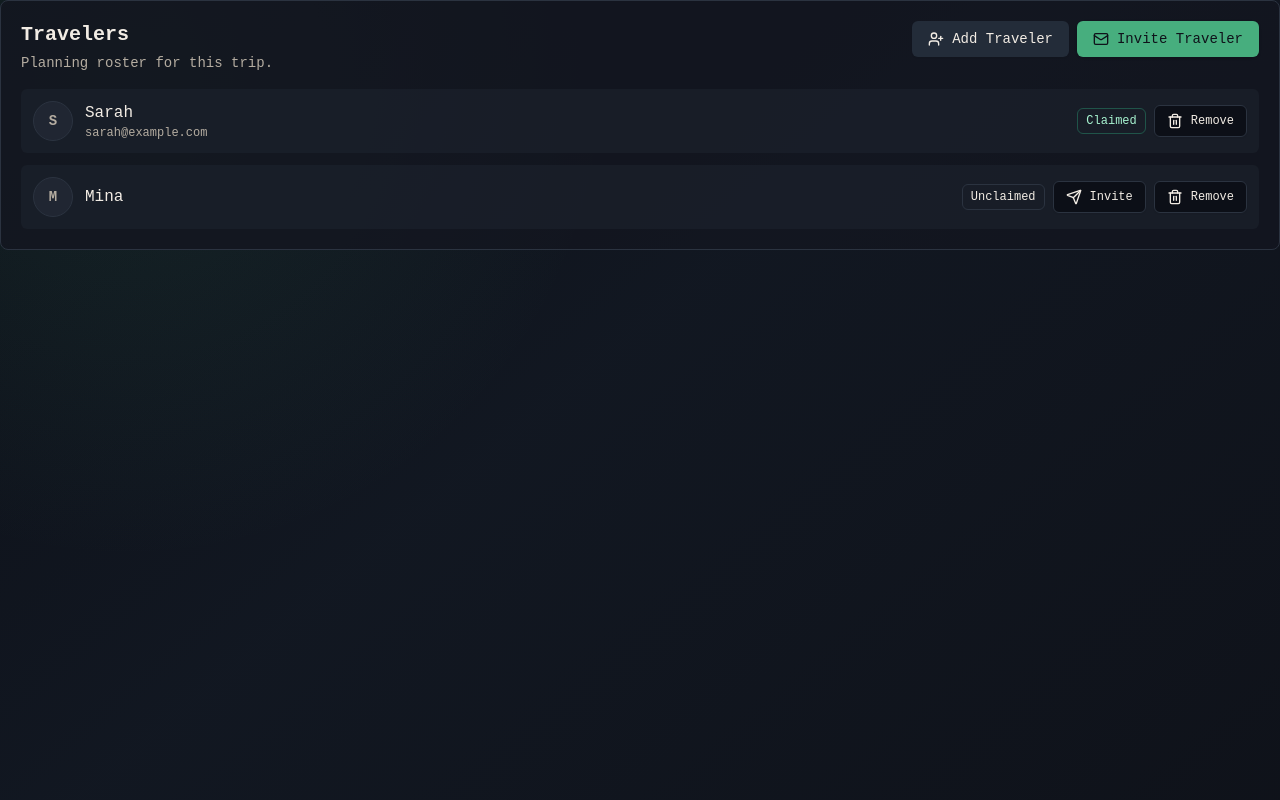
Test case: TripTravelersSection › invites an unclaimed traveler from their roster row
The width and height of the screenshot is (1280, 800).
Click the button "Invite" at (1099,197), box [1053, 181, 1146, 213]
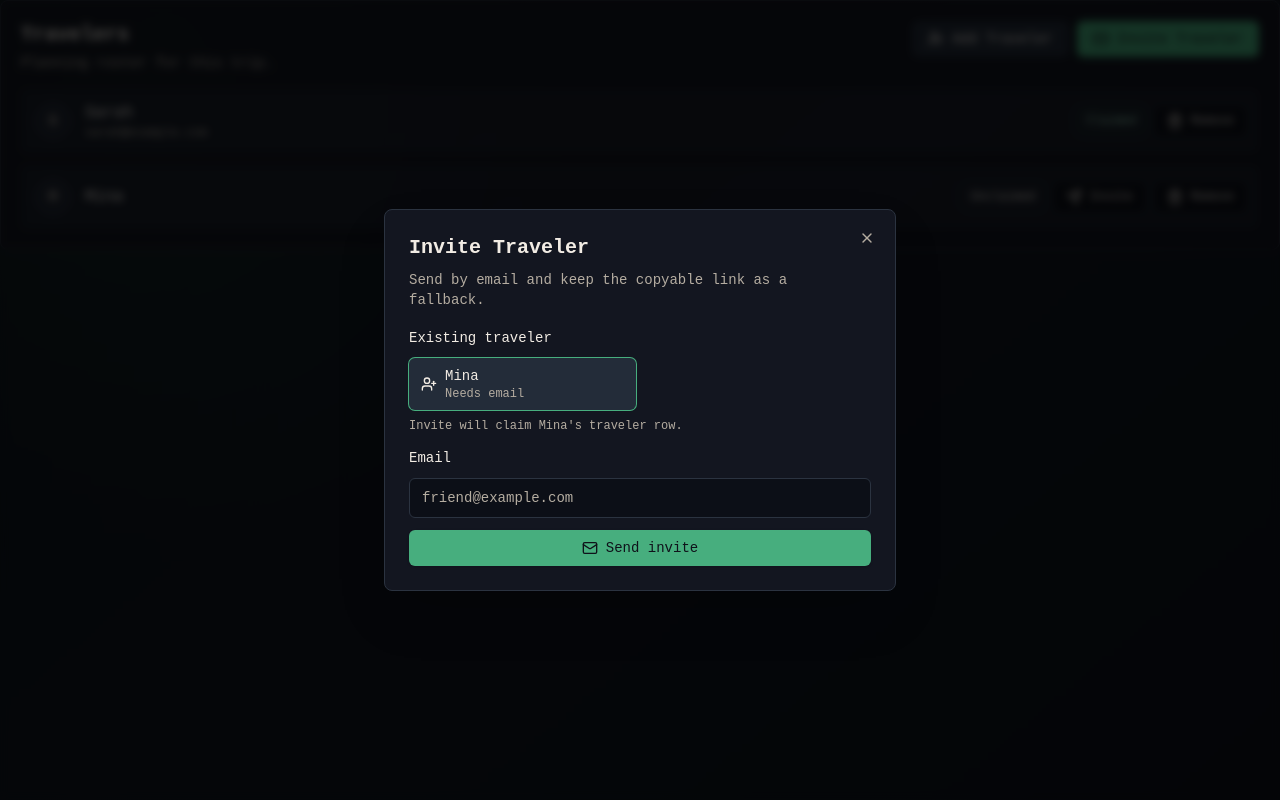
Type "mina@example.com" into the field labelled "Email" at (640,498), box [409, 478, 871, 518]
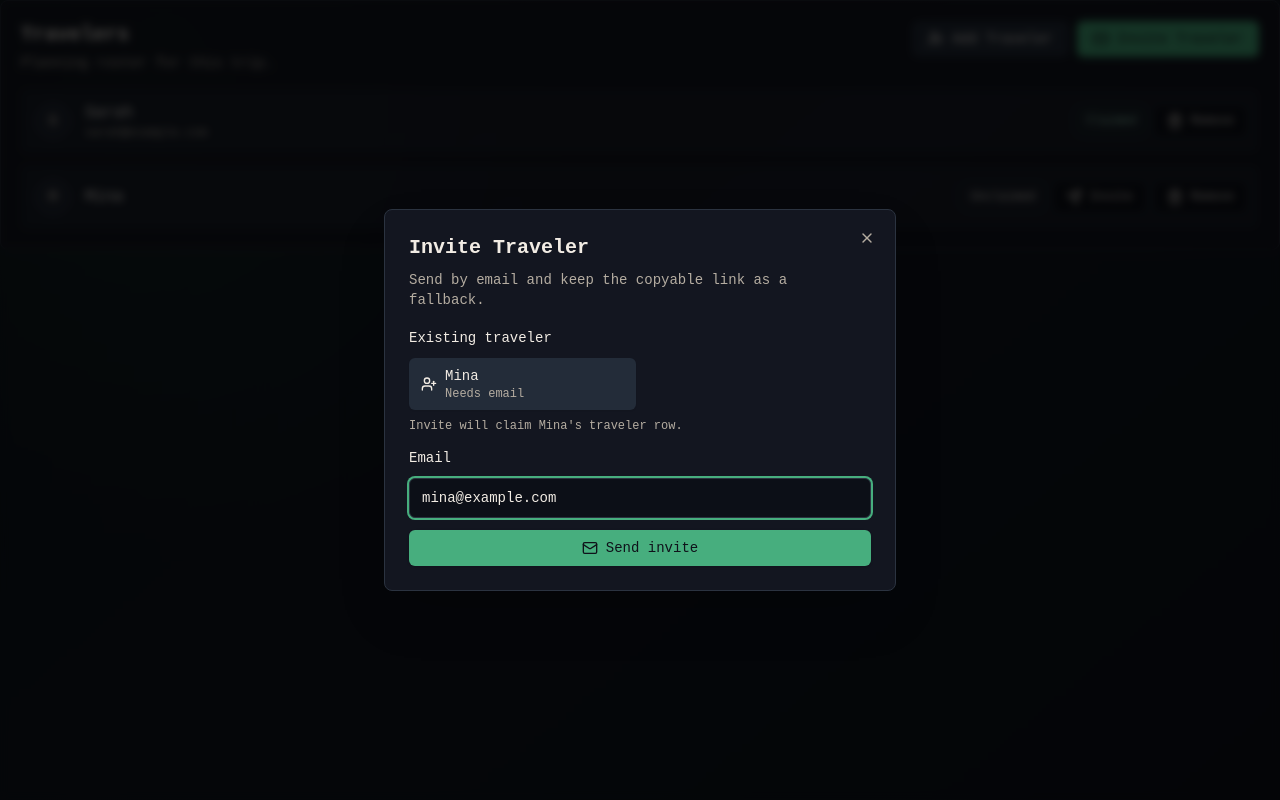
Click the button "Send invite" at (640,548), box [409, 530, 871, 566]
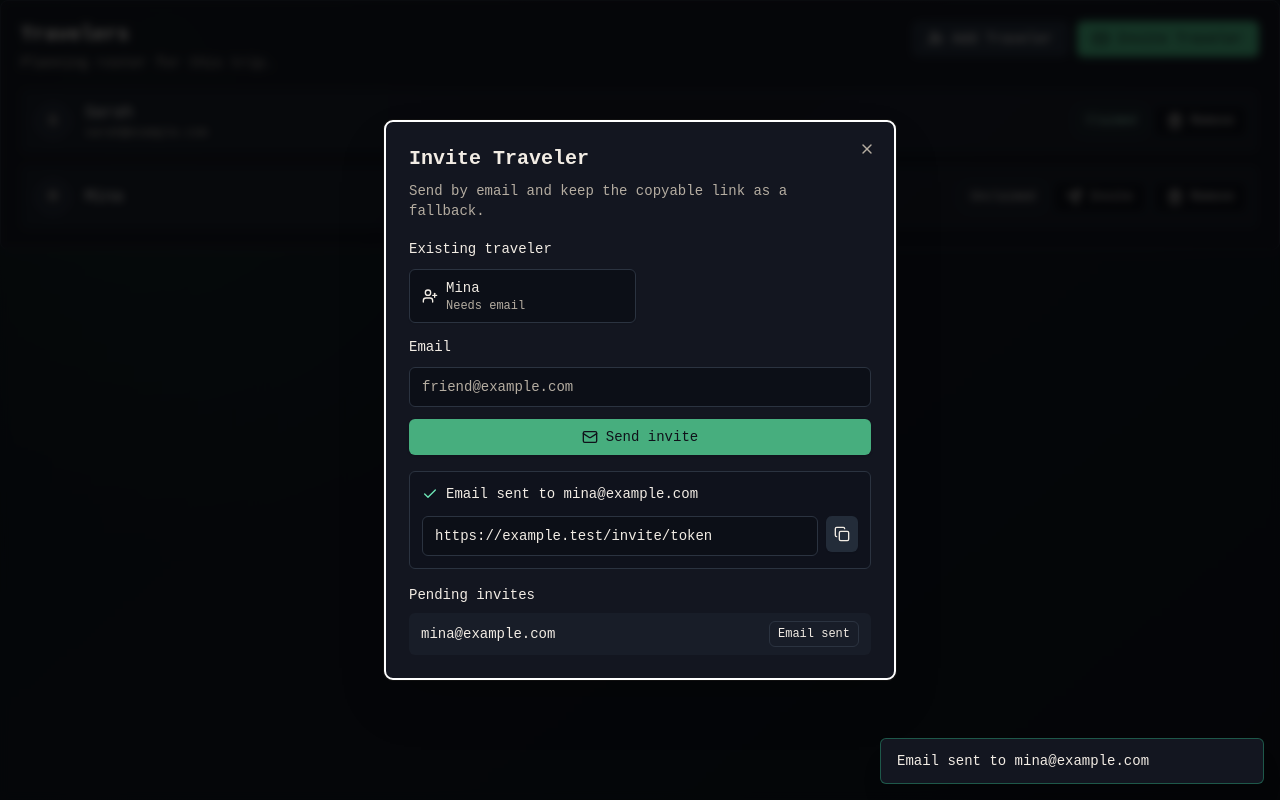
Check: the field showing "https://example.test/invite/token" is shown, box [422, 516, 818, 556]
